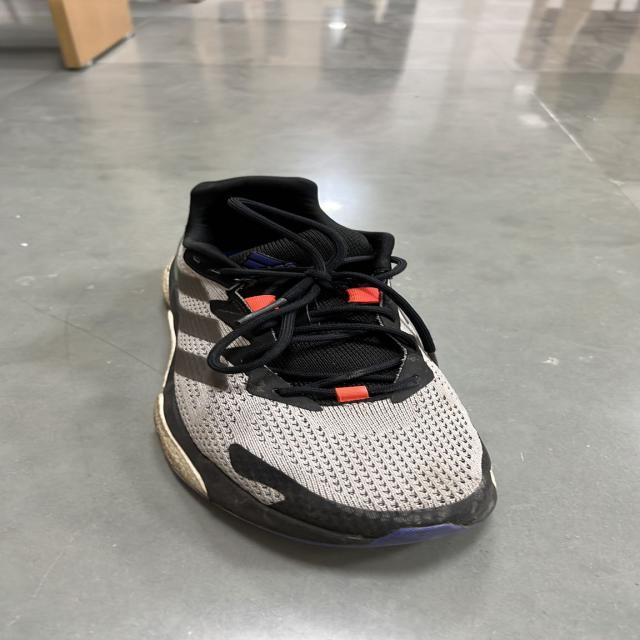shoe: (157, 172, 501, 550)
